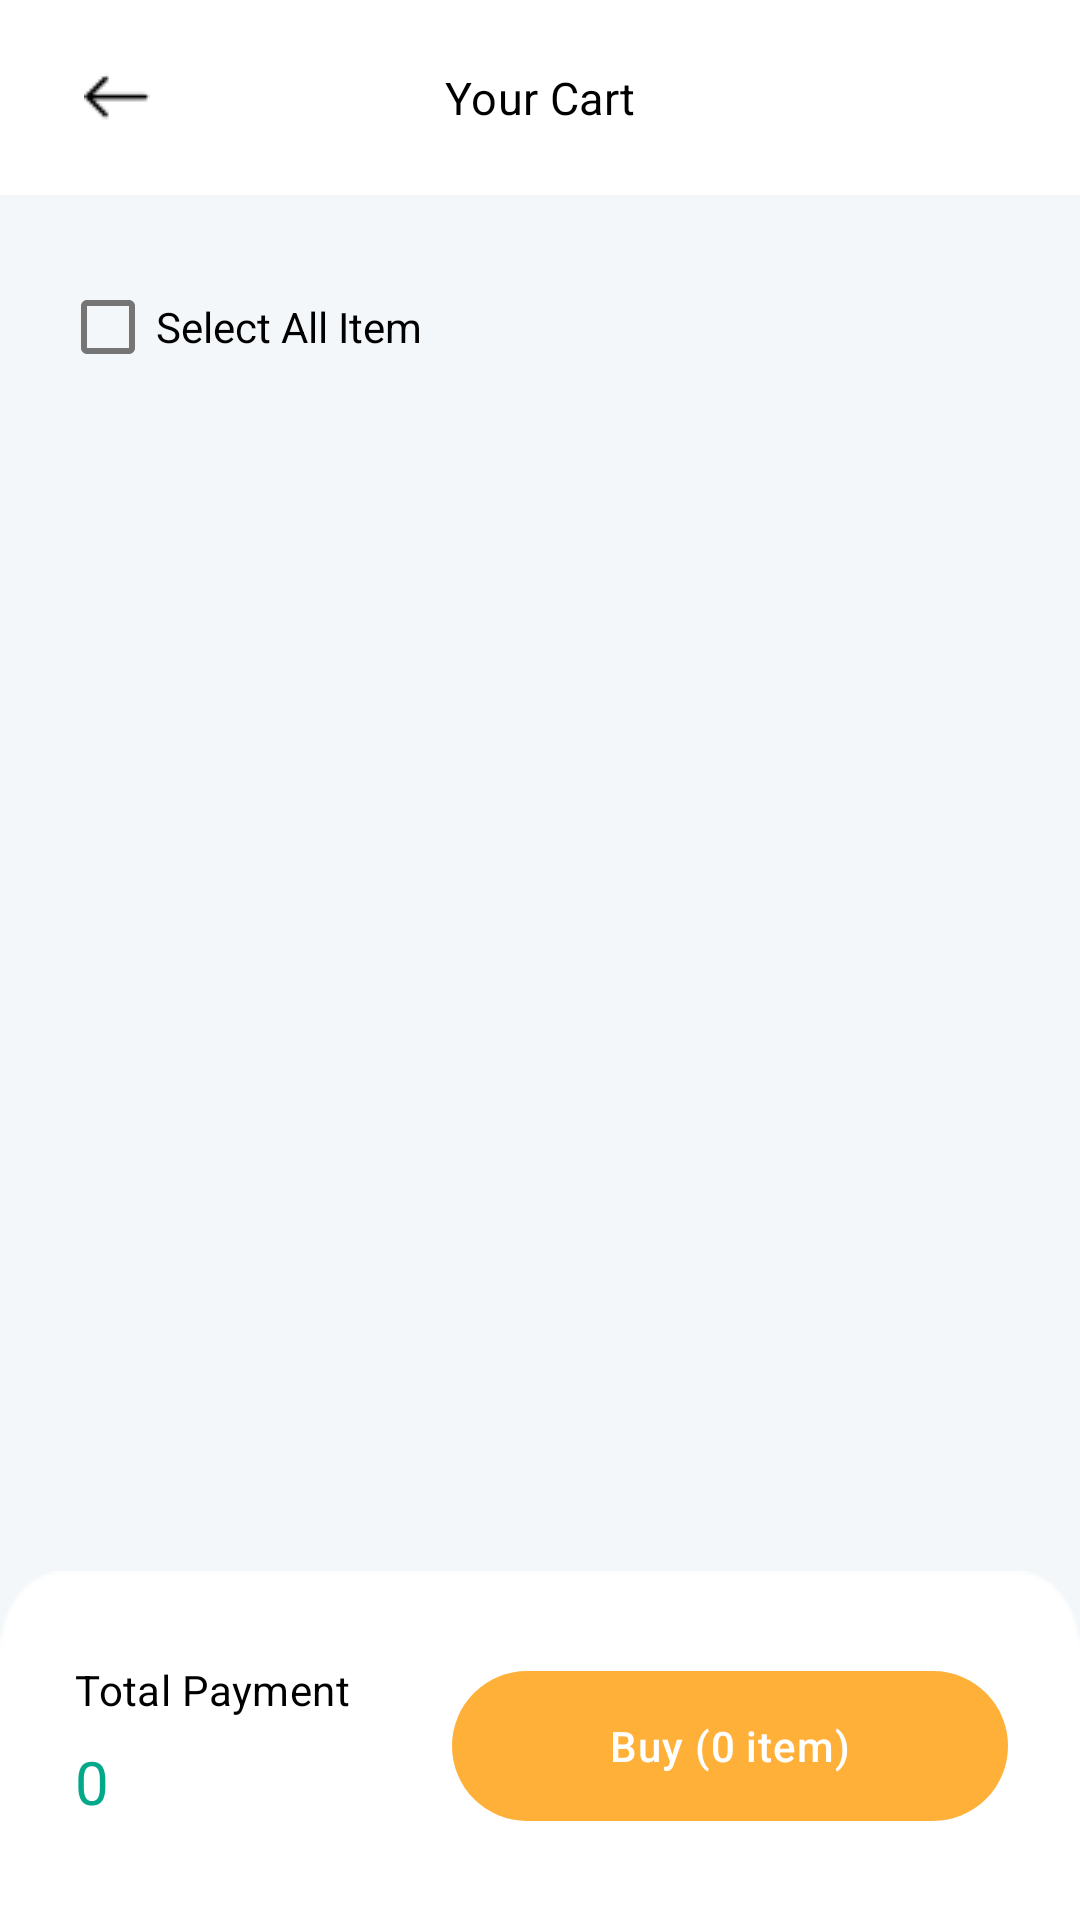

Named icons in this screenshot (1080px×1920px) and their bounding boxes, (x1=x1, y1=y1, x2=x2, y2=y2):
back: (x1=84, y1=76, x2=150, y2=119)
